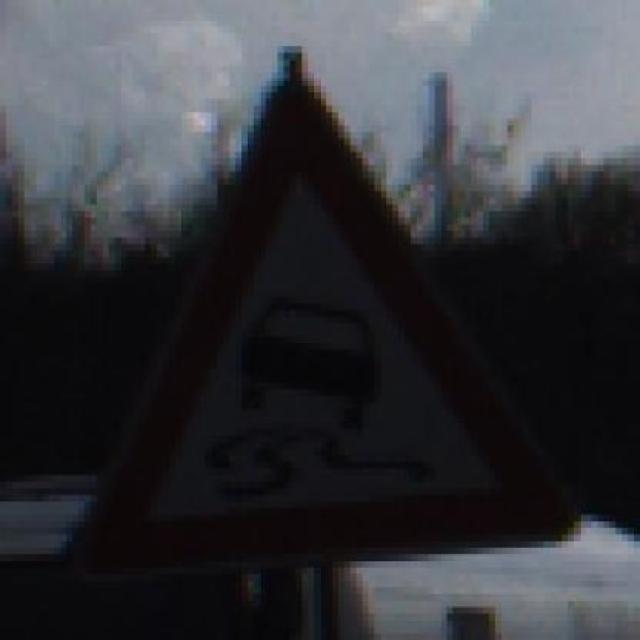Slippery Road Ahead: (56, 48, 576, 583)
